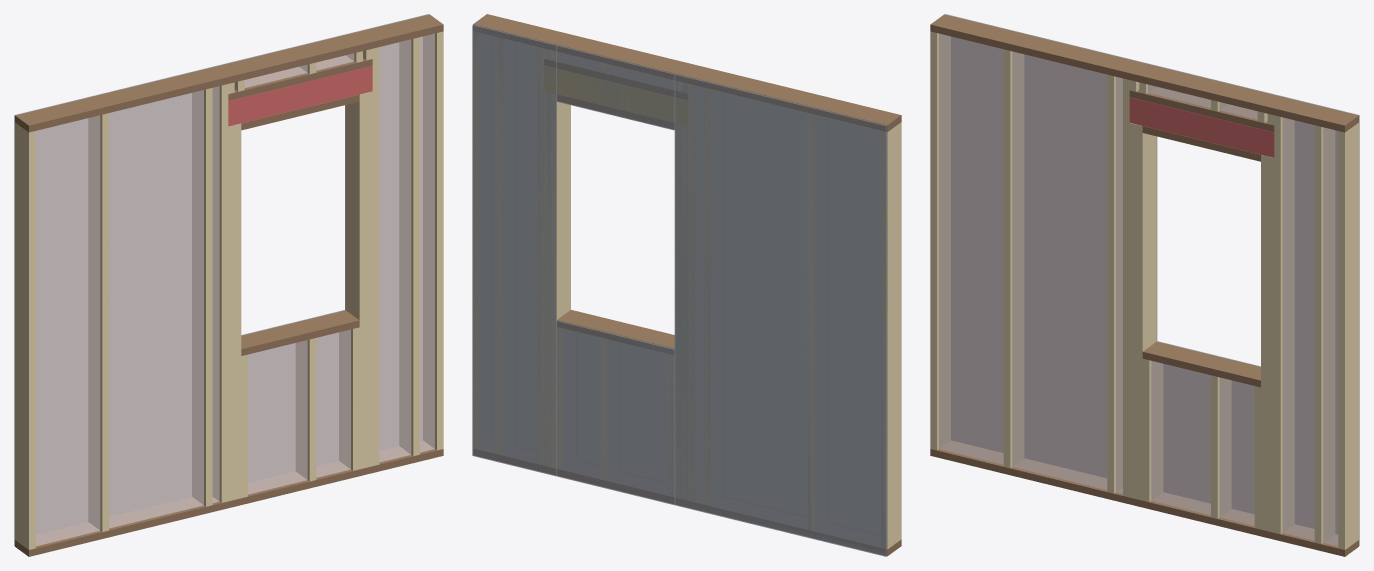
3 renders of one model, left to right at view 1: azimuth 30°, elevation 25°; view 2: azimuth 150°, elevation 25°; view 3: azimuth 330°, elevation 25°, orthographic.
Visible parts, largest first — view 1: EX10 GF; view 2: EX10 GF; view 3: EX10 GF.
Boxes of the visible parts, x1=… form: EX10 GF: x1=14, y1=14, x2=443, y2=556; EX10 GF: x1=472, y1=14, x2=901, y2=556; EX10 GF: x1=930, y1=14, x2=1359, y2=556.
Bounding box in the file's own units: 2.4 × 2.39 × 0.149.
